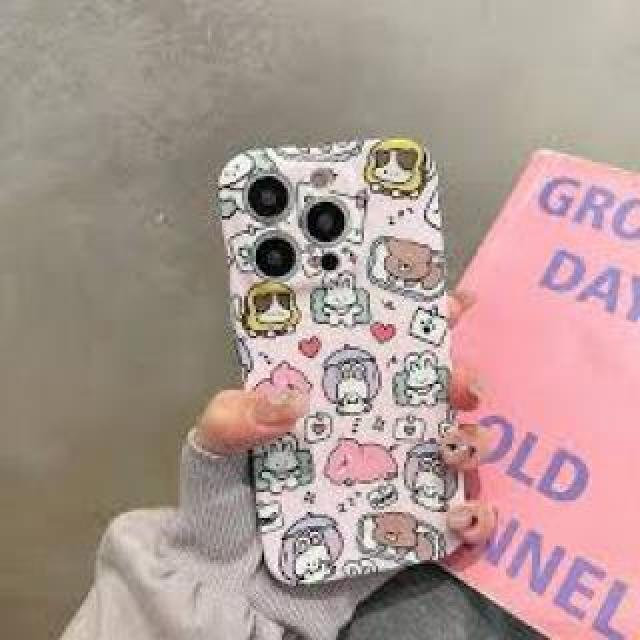smart phone: (212, 85, 482, 590)
